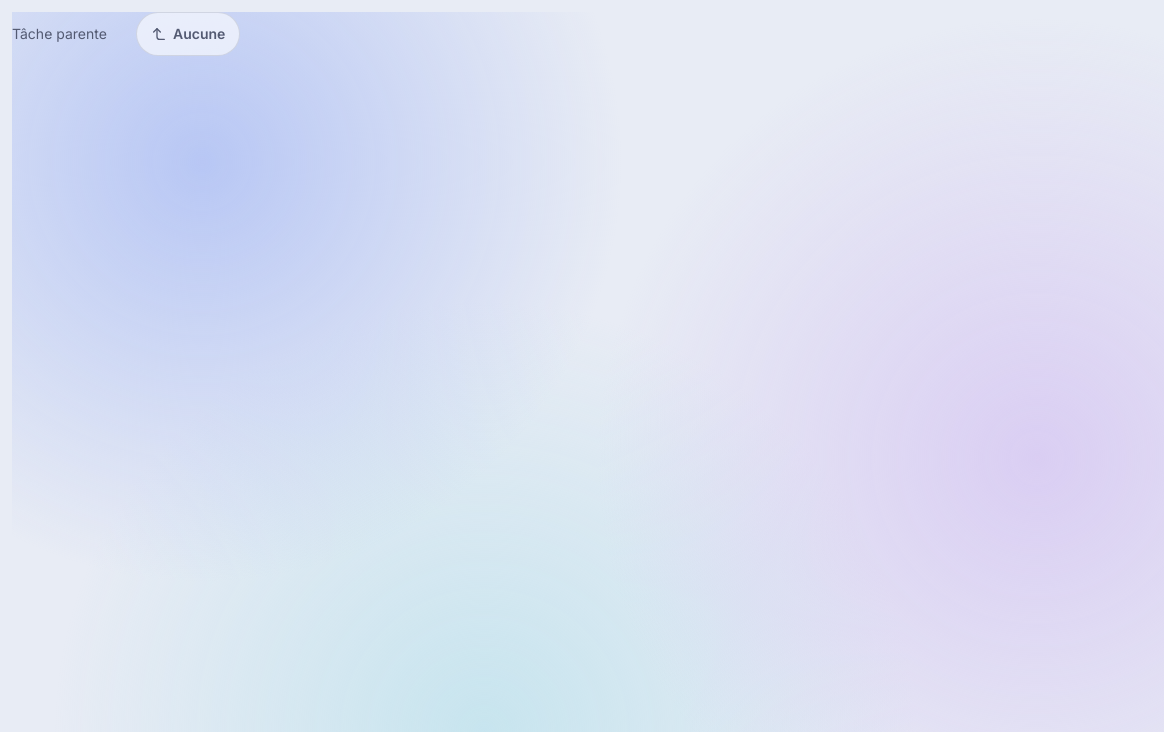
propriété « Tâche parente » › refus not_found traduit sous le champ
Click the button with aria-label "Tâche parente : Aucune": {"x": 188, "y": 34} [136, 12, 240, 56]
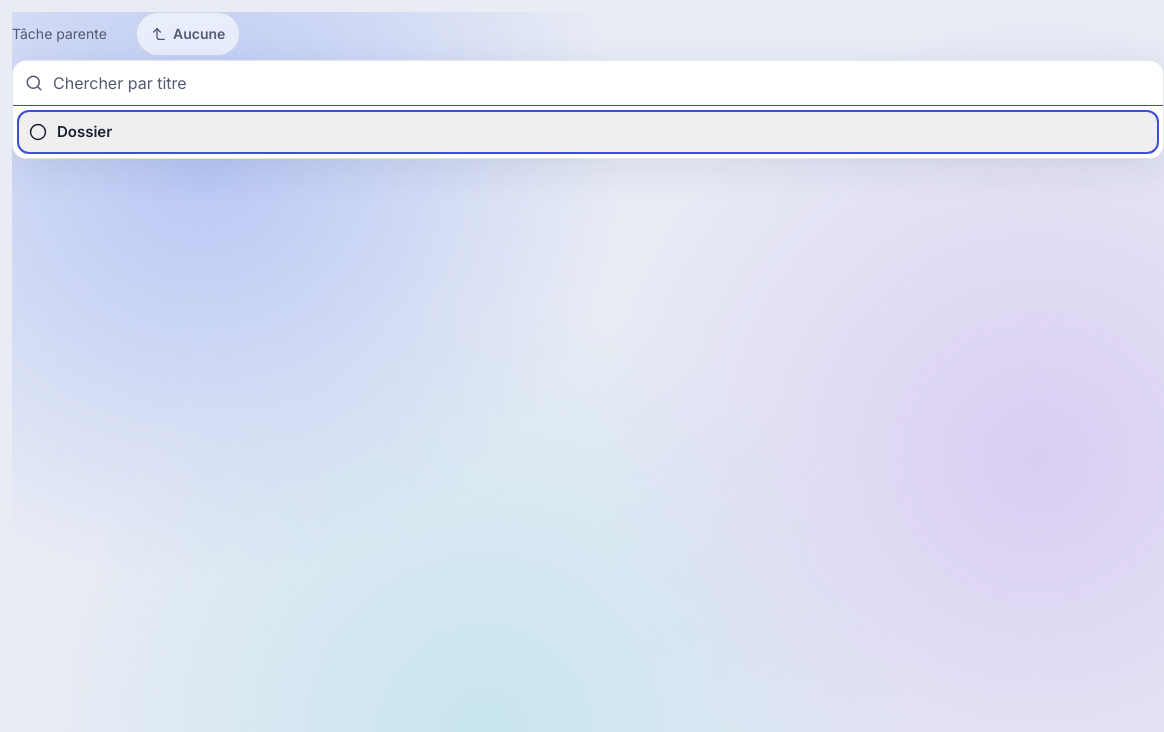
Click the option "Dossier": {"x": 85, "y": 131} [17, 110, 1159, 154]
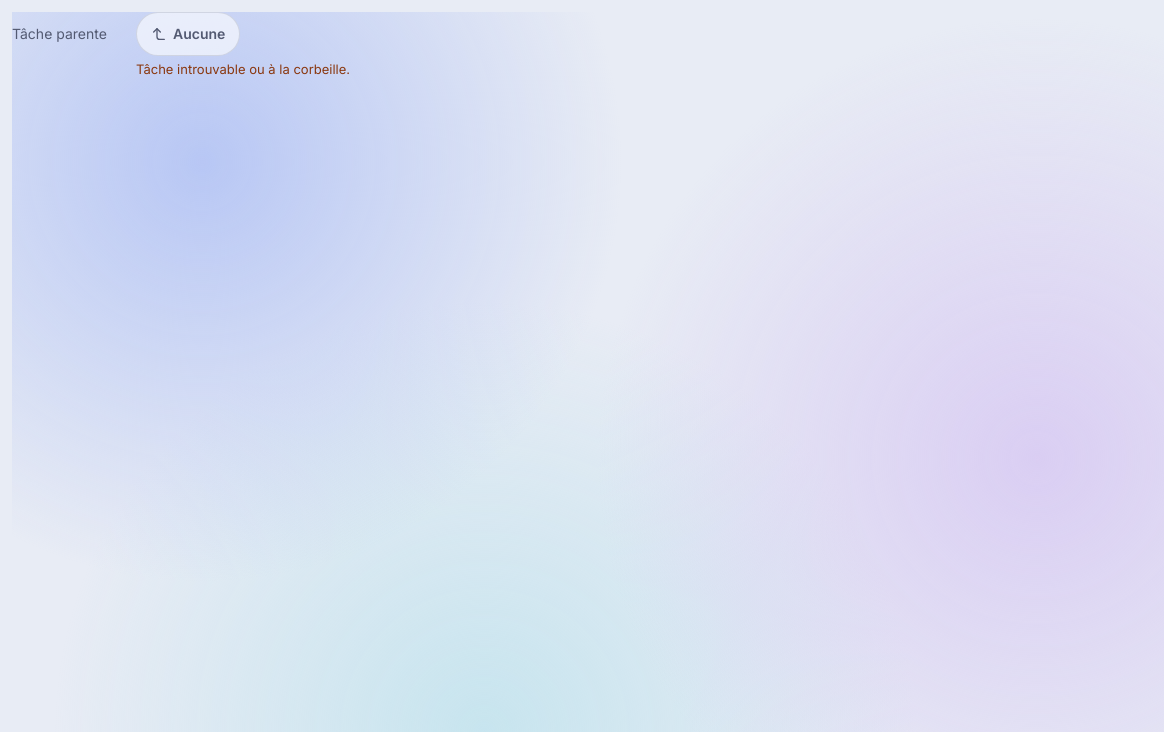
Expected: the message reads "Tâche introuvable ou à la corbeille.", [136, 61, 350, 77]
